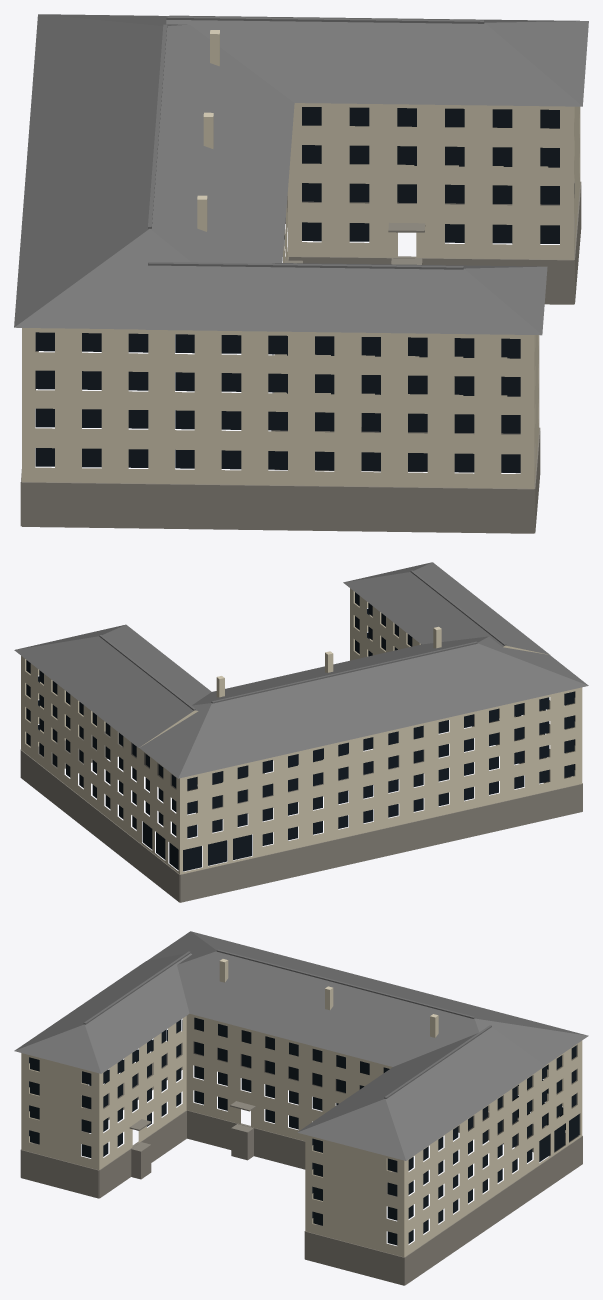
3 views of the same model, one above another, from view 1: azimuth 30°, elevation 25°; view 2: azimuth 150°, elevation 25°; view 3: azimuth 270°, elevation 25° (orthographic). The views are drawn at different scales.
Parts seen in each view (by area): view 1: m-w92028127_roof, m-w92028127_wall, m-w92028127_stone, m-w92028127_glass; view 2: m-w92028127_roof, m-w92028127_wall, m-w92028127_stone, m-w92028127_glass; view 3: m-w92028127_roof, m-w92028127_wall, m-w92028127_stone, m-w92028127_glass.
Boxes of the visible parts, box(x1,y1,x2,y2) form: m-w92028127_roof: box(14, 14, 588, 335); m-w92028127_wall: box(22, 30, 580, 488); m-w92028127_stone: box(20, 181, 581, 533); m-w92028127_glass: box(35, 107, 559, 472); m-w92028127_roof: box(14, 562, 588, 778); m-w92028127_wall: box(21, 588, 582, 874); m-w92028127_stone: box(20, 714, 582, 902); m-w92028127_glass: box(26, 592, 575, 871); m-w92028127_roof: box(14, 931, 588, 1160); m-w92028127_wall: box(21, 959, 582, 1257); m-w92028127_stone: box(20, 1041, 582, 1285); m-w92028127_glass: box(29, 1017, 579, 1245).
Size of the model in its own units: 61.48 by 20.5 by 64.98.
